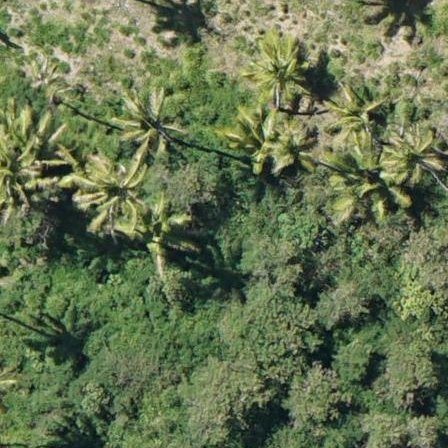palm_tree: (79, 151, 158, 235), (242, 32, 319, 106), (231, 108, 307, 176), (115, 90, 184, 164), (321, 139, 393, 207), (1, 121, 55, 203), (379, 121, 439, 186)
